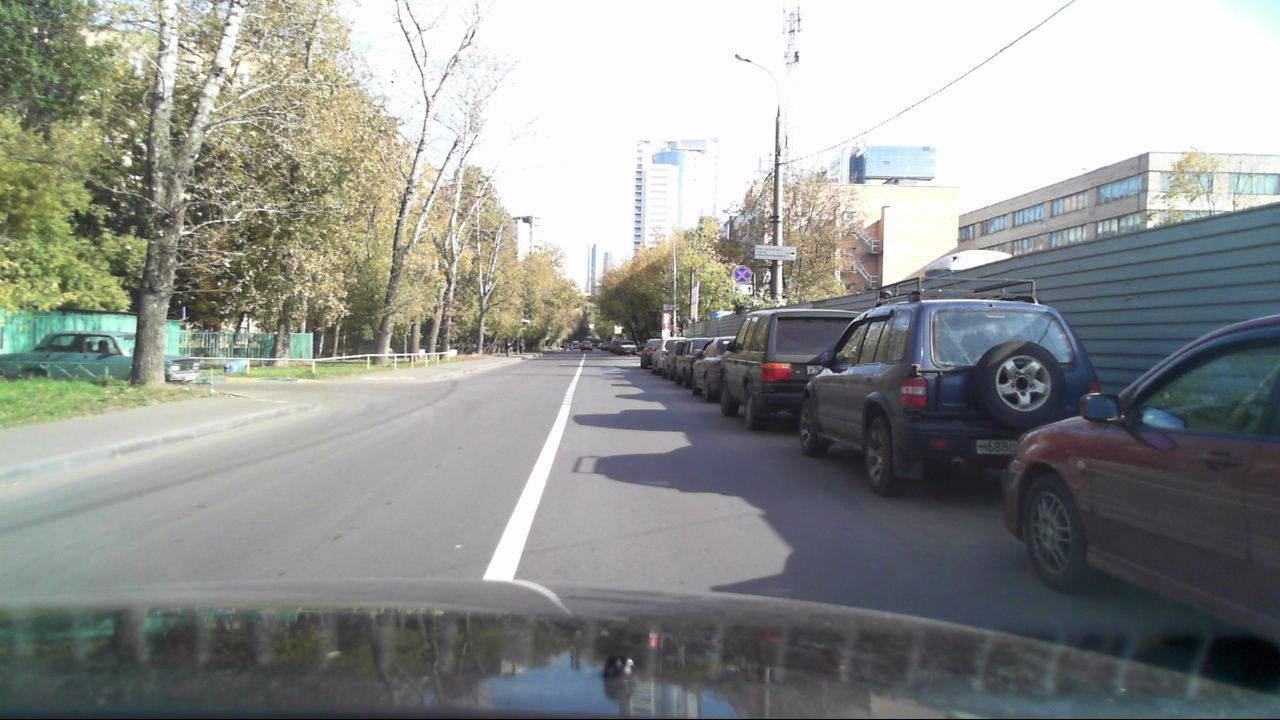No Parking: (731, 264, 752, 285)
